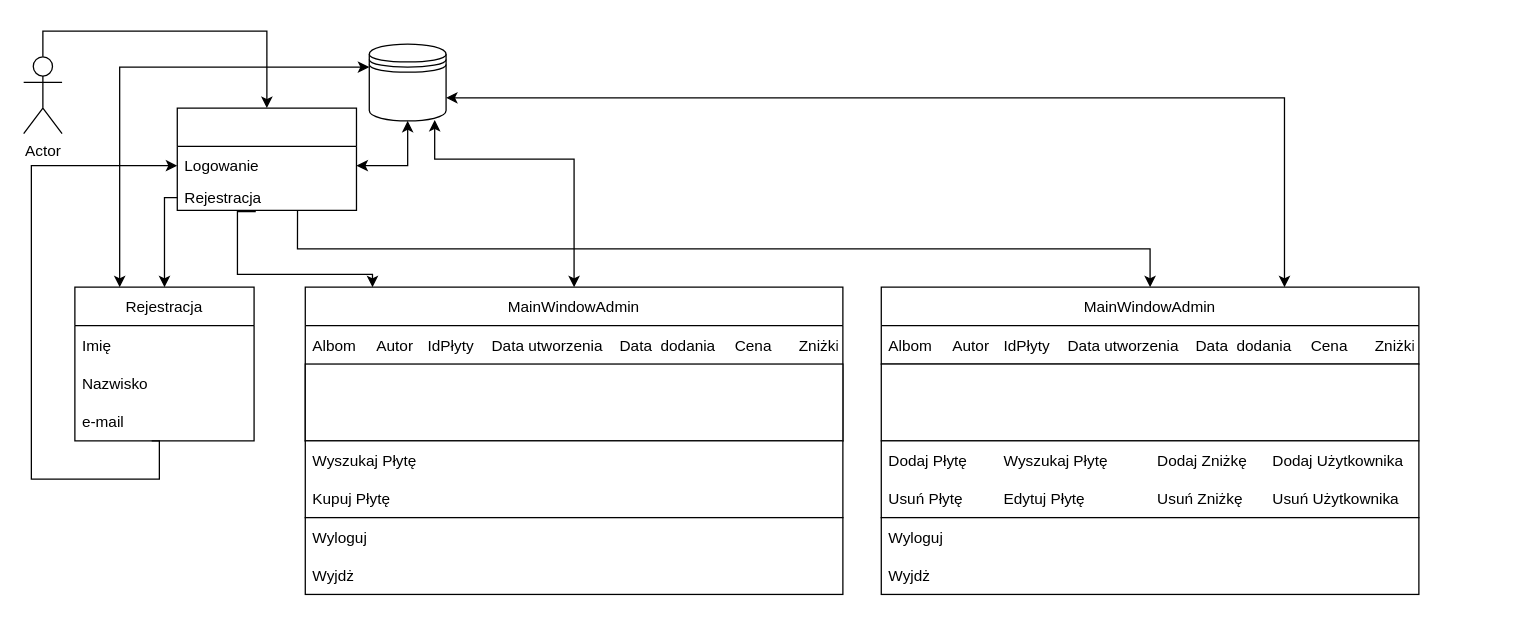
Some shapes in this 1519 by 617 pixel diagram are drawn without their labels. Each missing label, with the box of its shape:
SQL: (368, 43, 446, 121)
WindowLogo: (176, 107, 356, 210)
